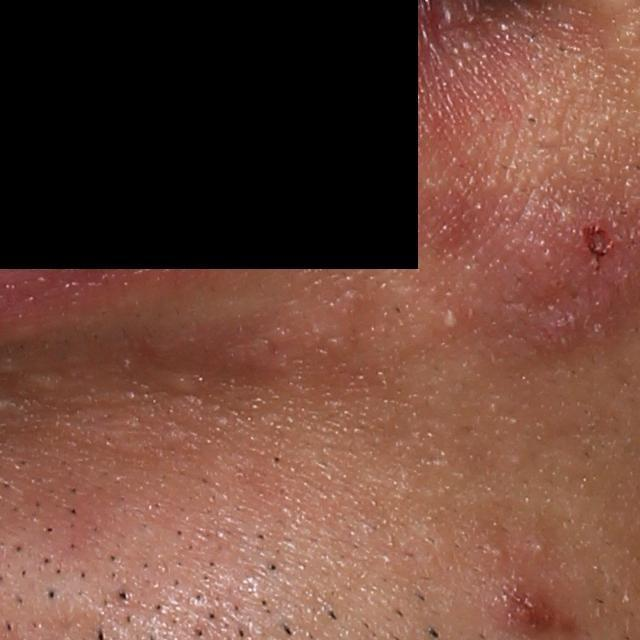hypertrophic_scar: (29, 374, 73, 395), (157, 372, 201, 391)
papule: (478, 562, 551, 637)
pustule: (422, 295, 468, 340)
